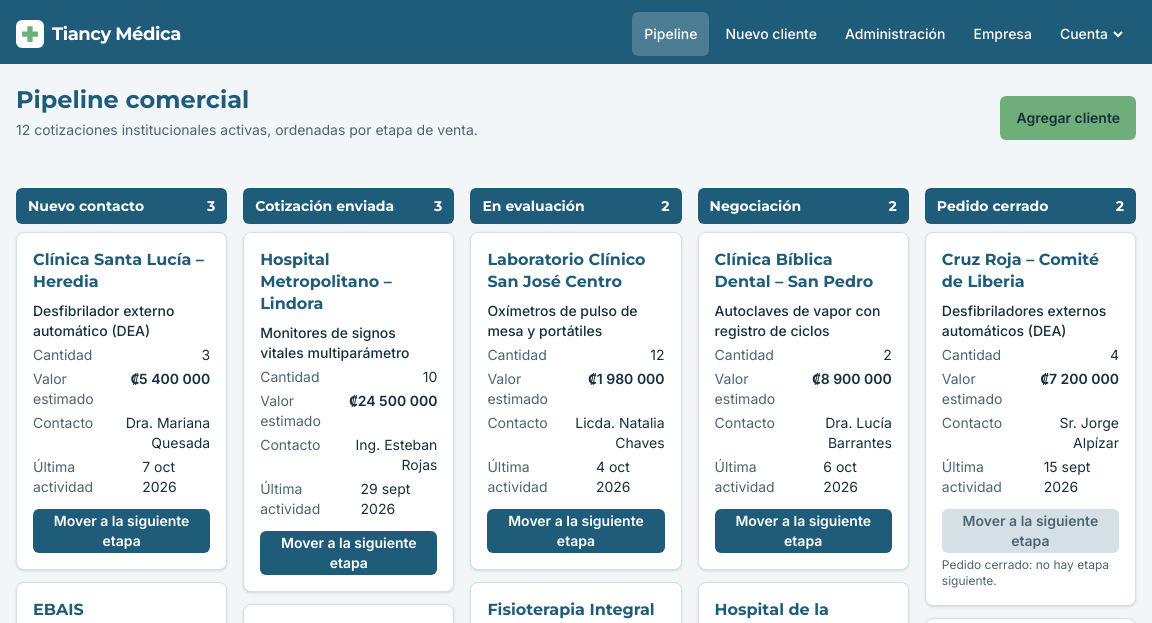
Test: AccountMenu › cancels the confirmation with Escape
Expected: the heading "Pipeline comercial" is shown, [16,85,249,114]
Click the button "Cuenta" at {"x": 1092, "y": 34}, box [1048,12,1136,56]
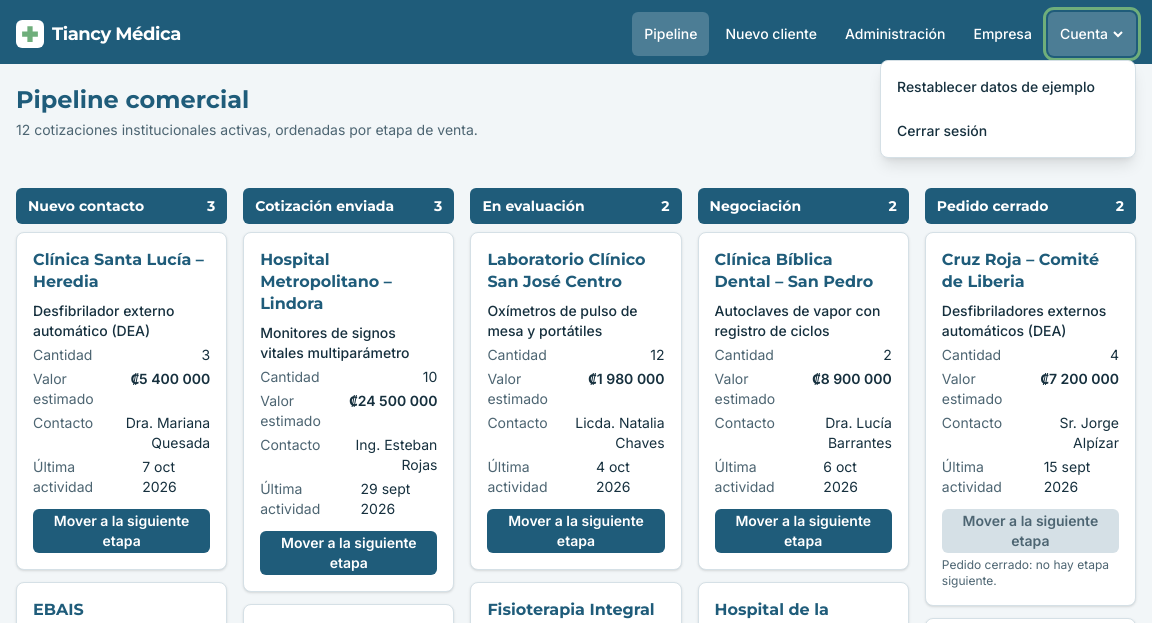
Click the button "Restablecer datos de ejemplo" at {"x": 1008, "y": 87}, box [885,65,1131,109]
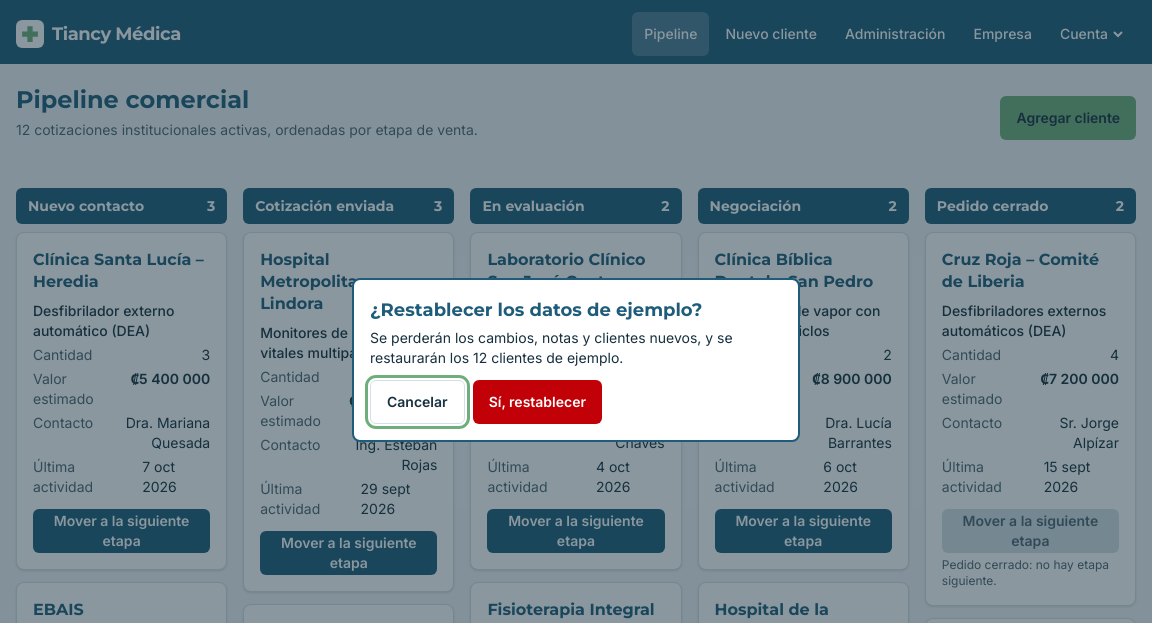
Press Escape
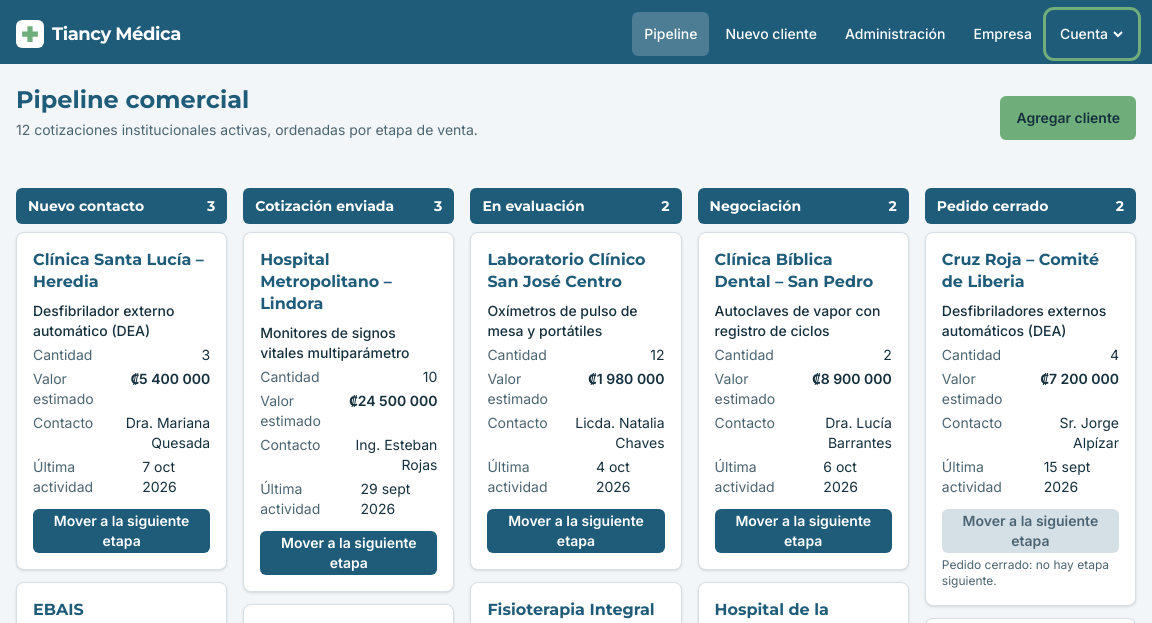
Now the dialog is gone
